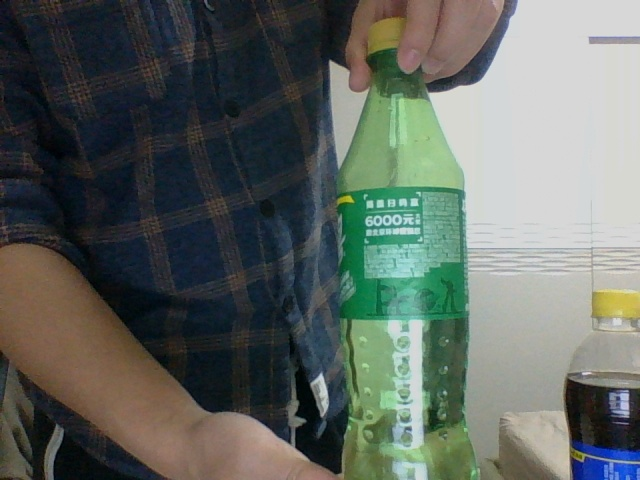Cola: (563, 290, 638, 478)
Sprite: (334, 16, 484, 479)
